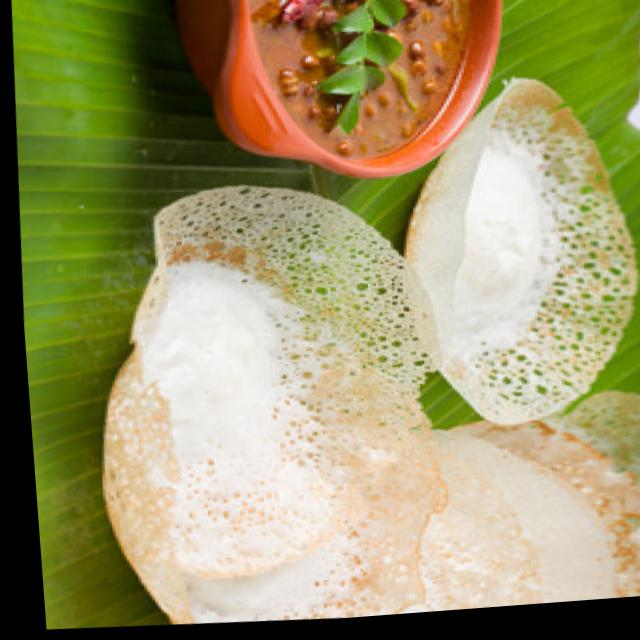AAPAM: (68, 72, 640, 623)
CURRY: (211, 0, 510, 161)
